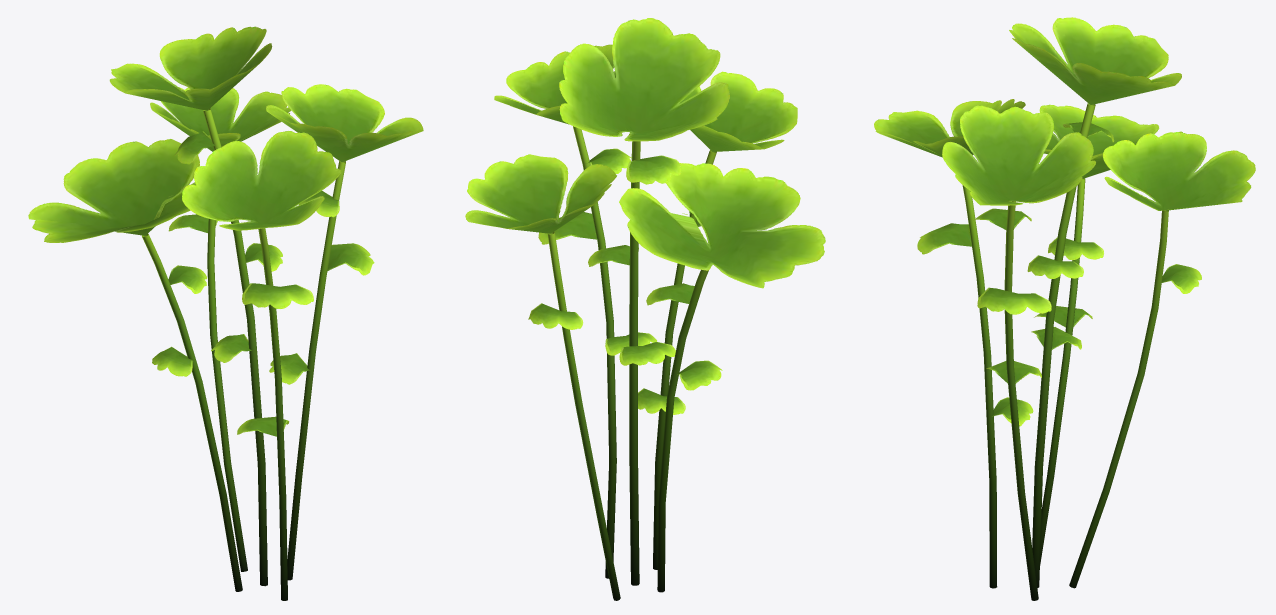
File: Clover_2.glb
3 views of the same model, side by side, from view 1: azimuth 30°, elevation 25°; view 2: azimuth 150°, elevation 25°; view 3: azimuth 270°, elevation 25° (orthographic). The views are drawn at different scales.
Visible parts, largest first — view 1: Clover_2; view 2: Clover_2; view 3: Clover_2.
Boxes of the visible parts, x1,y1,x2,y2 form: Clover_2: (28,26,423,600); Clover_2: (465,18,825,600); Clover_2: (874,17,1255,600).
Bounding box in the file's own units: 0.8511 × 1.26 × 0.8366.
Materials: 1 (1 with a texture image).
